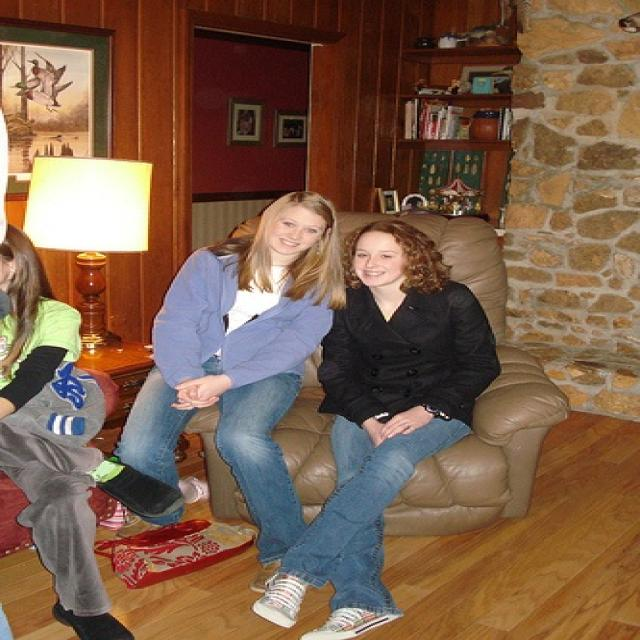chair: (180, 210, 578, 543)
person: (249, 216, 510, 640), (109, 187, 353, 599), (1, 221, 193, 640)
